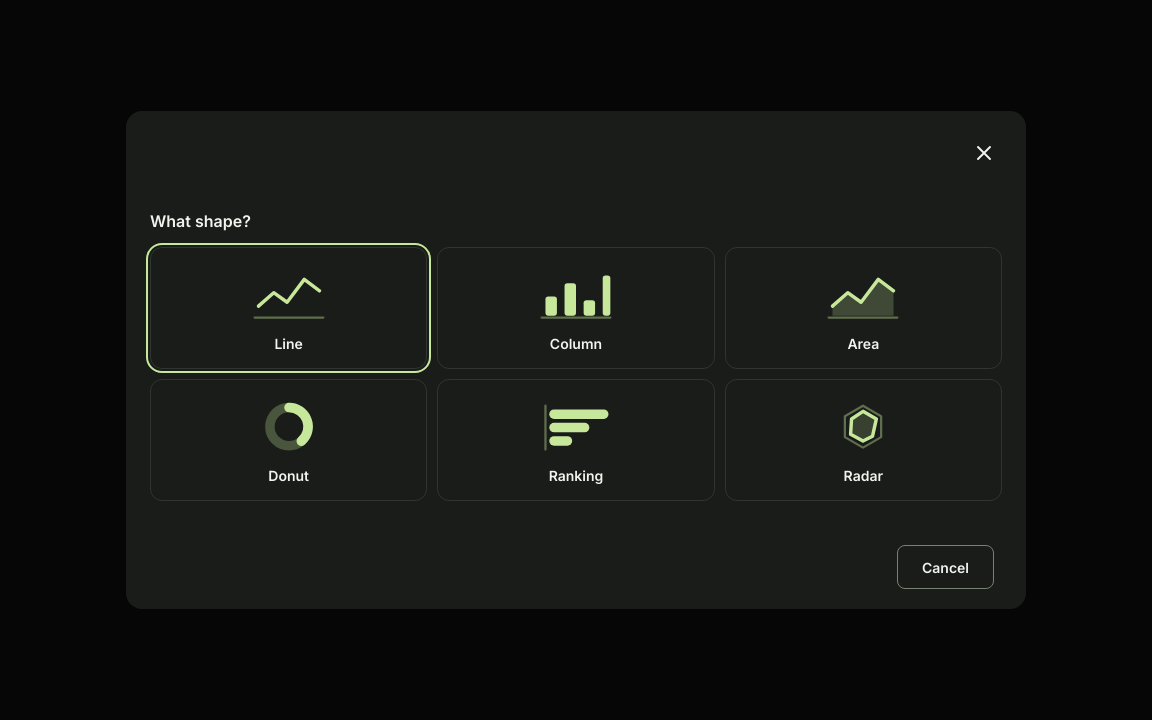
modal callers supply deliberate focus transitions › focuses the chart details step and retains typing focus across preview refreshes
Click the button "Line" at (289, 308), box [150, 247, 427, 369]
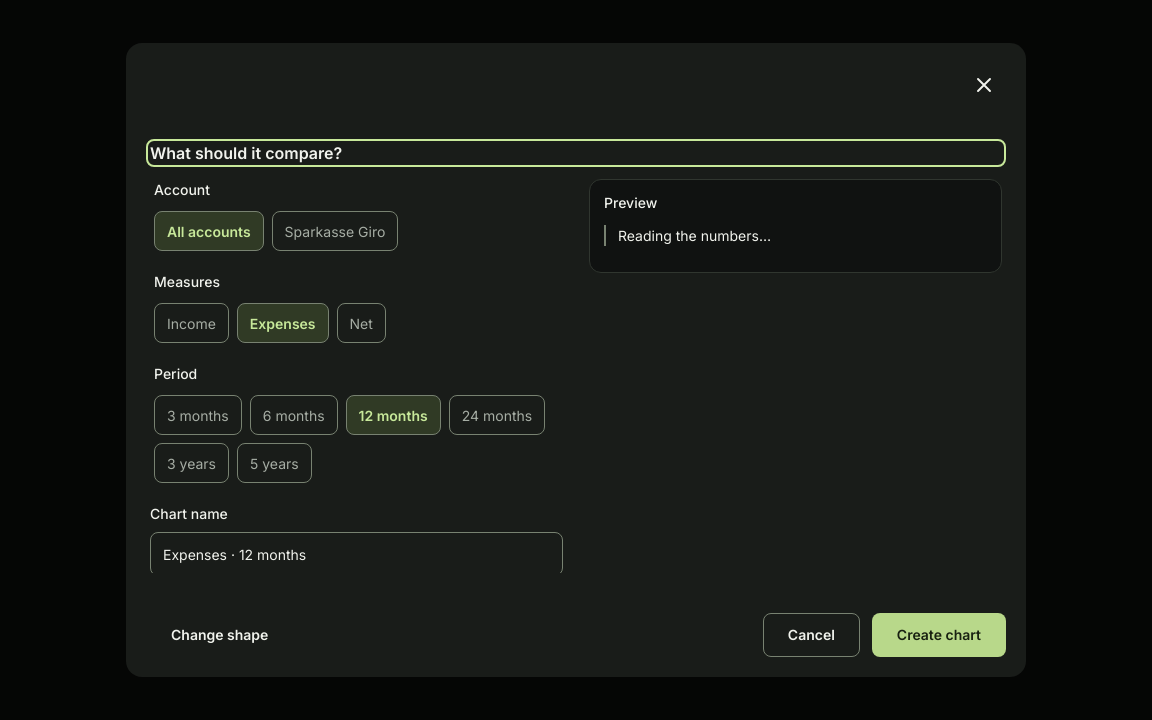
Press Tab
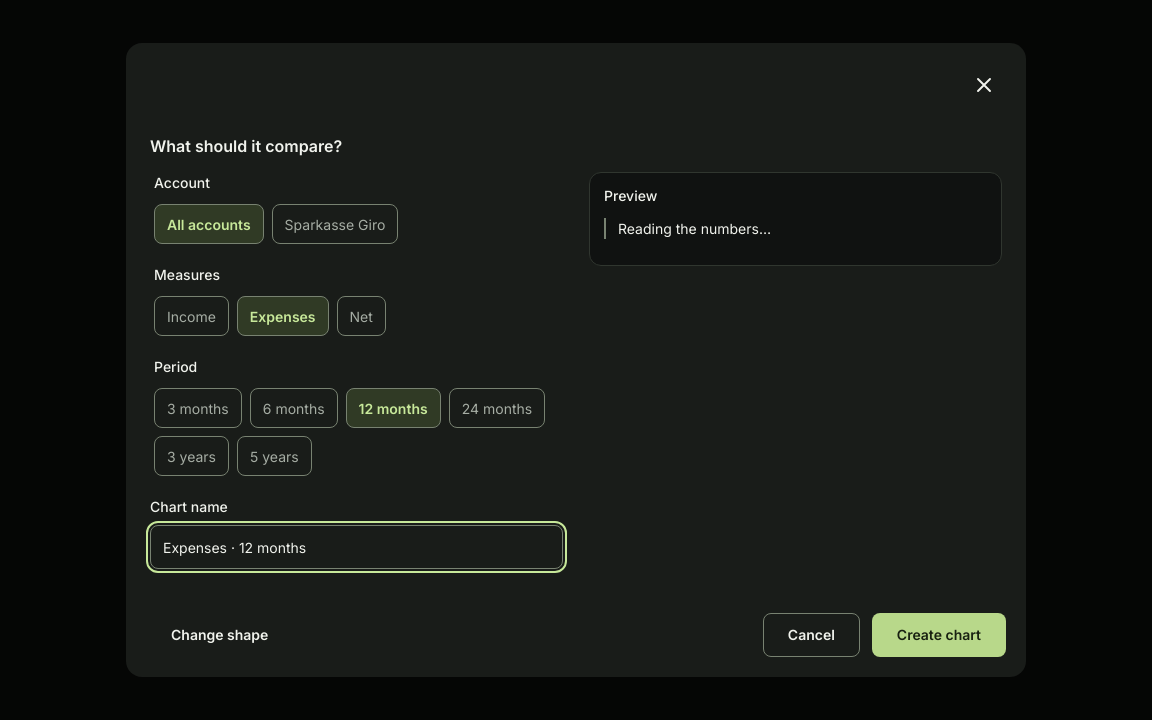
Type "My chart" into the field labelled "Chart name" at (356, 547), box [150, 525, 563, 569]
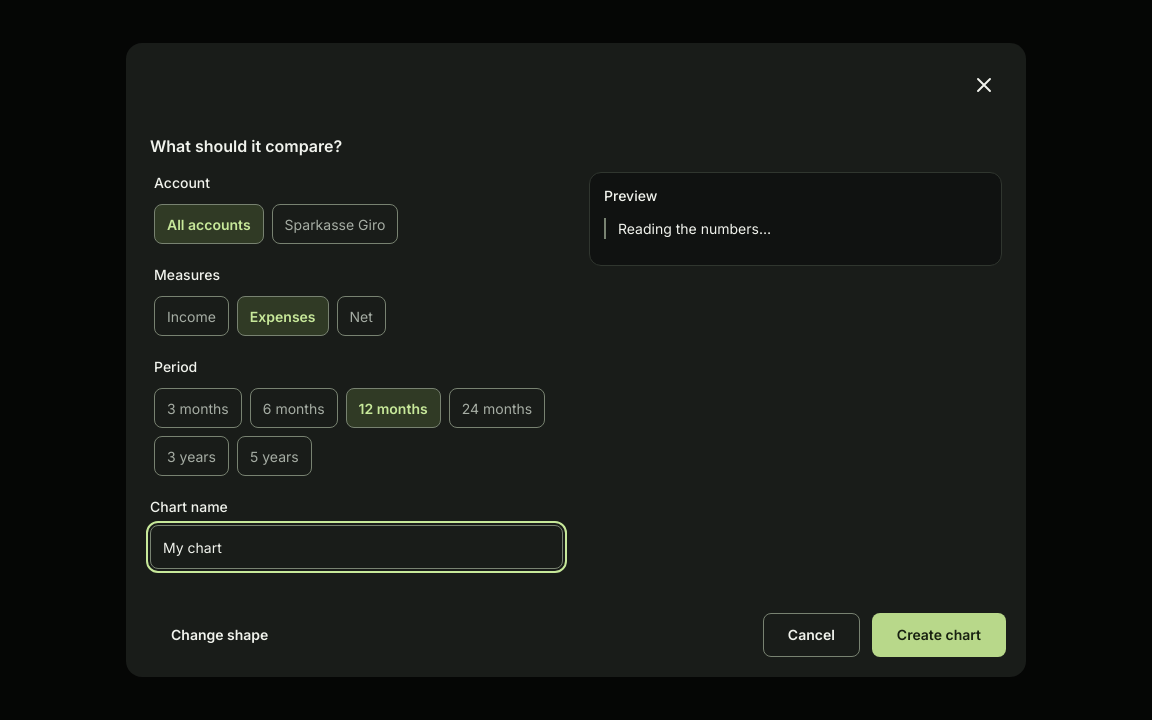
Click the button "Change shape" at (220, 635), box [146, 613, 293, 657]
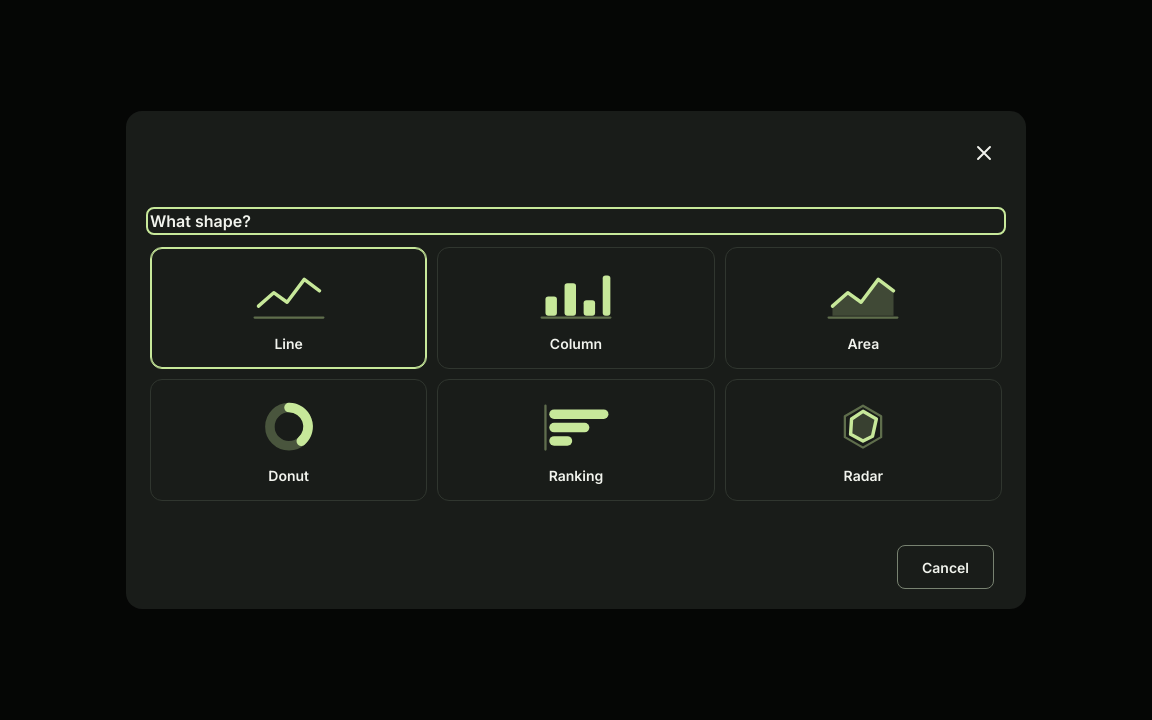
Click the button "Line" at (289, 308), box [150, 247, 427, 369]
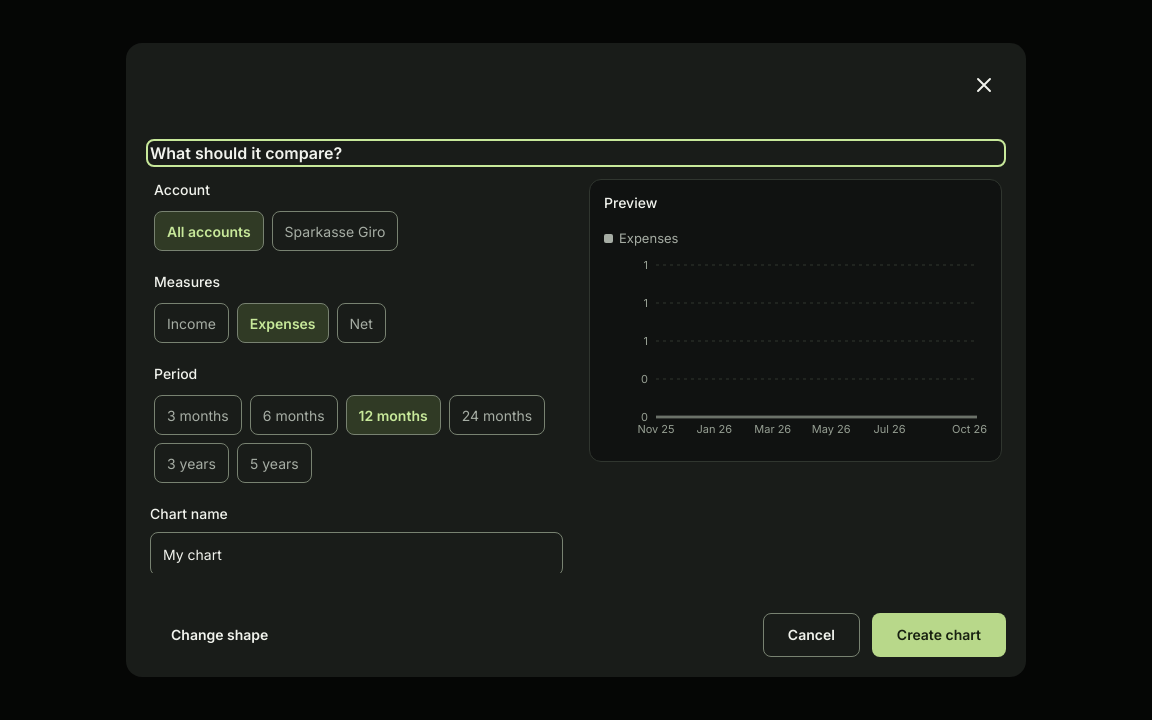
Now the field labelled "Chart name" holds "My chart", box [150, 532, 563, 573]
